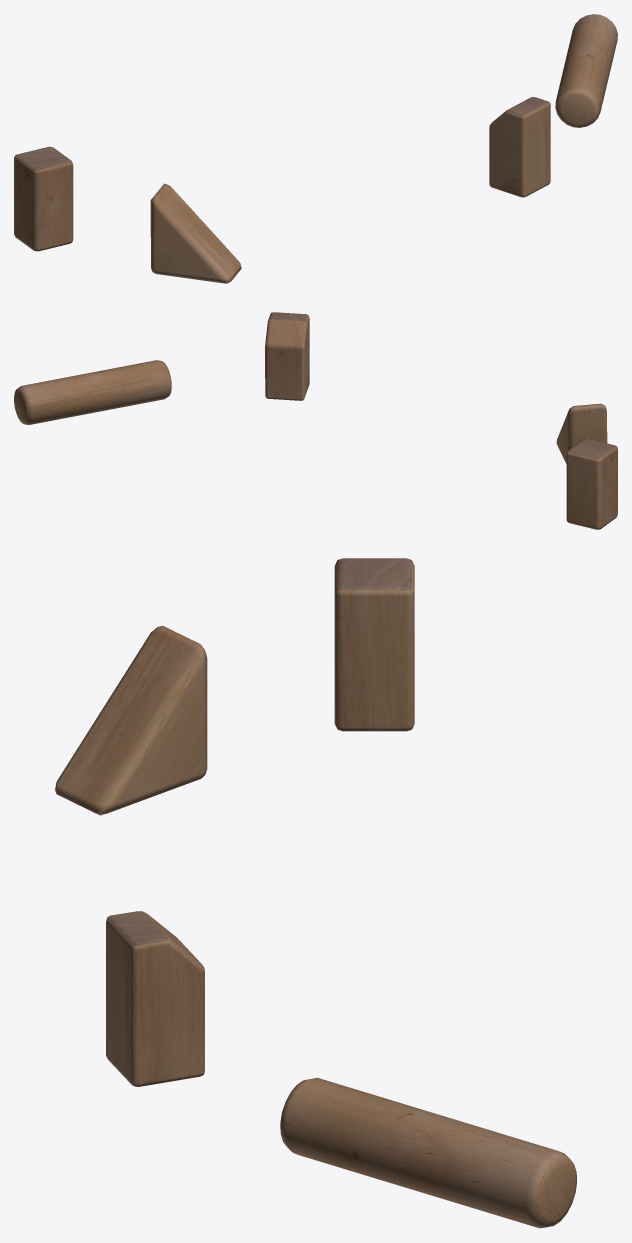
The model's file is WoodCubes.fbx.
The picture shows the model from 3 angles, top to bottom: view 1: azimuth 30°, elevation 25°; view 2: azimuth 150°, elevation 25°; view 3: azimuth 270°, elevation 25°; orthographic projection. The views are drawn at different scales.
Visible parts, largest first — view 1: Rectangle1, Traingle, Beveled_Rectangle, Cylinder1; view 2: Cylinder1, Rectangle1, Beveled_Rectangle, Traingle; view 3: Cylinder1, Traingle, Beveled_Rectangle, Rectangle1.
Part boxes in pixels (x1,y1,x2,y2): Rectangle1: (14,146,73,251); Traingle: (150,183,241,283); Beveled_Rectangle: (489,97,550,197); Cylinder1: (555,14,617,127); Cylinder1: (14,360,171,424); Rectangle1: (566,438,617,529); Beveled_Rectangle: (265,312,309,400); Traingle: (556,403,607,464); Cylinder1: (280,1077,576,1228); Traingle: (55,625,207,815); Beveled_Rectangle: (106,911,204,1086); Rectangle1: (334,558,414,731).
Size of the model in its own units: 56.07 by 7.01 by 22.82.
